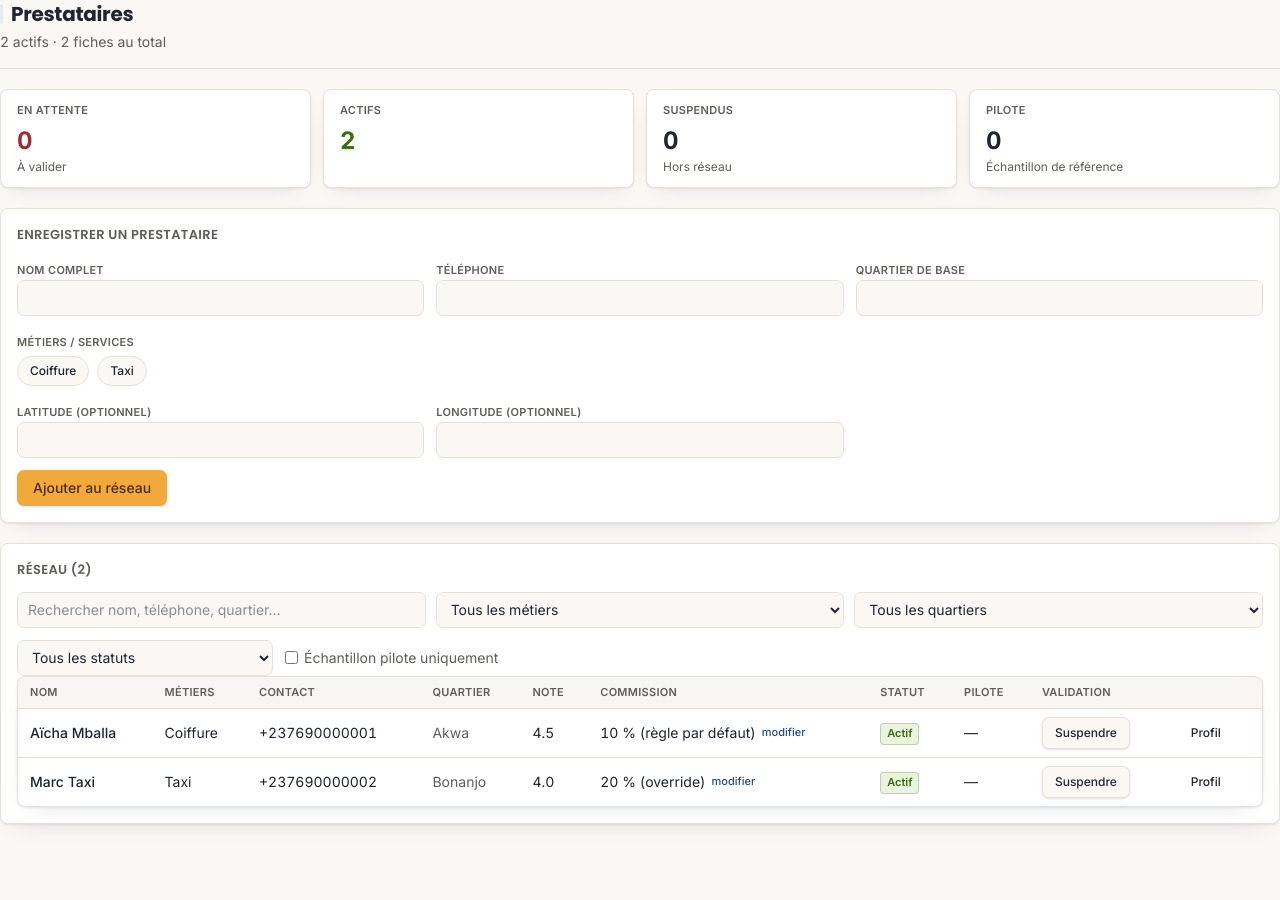
Test: Prestataires — annuaire, onboarding, validation de statut, filtres › onboarde un nouveau prestataire
This screenshot has width=1280, height=900.
Expected: the text "Aïcha Mballa" is shown, [18,709,153,758]
In the field labelled "Nom complet": (221, 298) [17,280,424,316], type "Nouveau Prestataire"
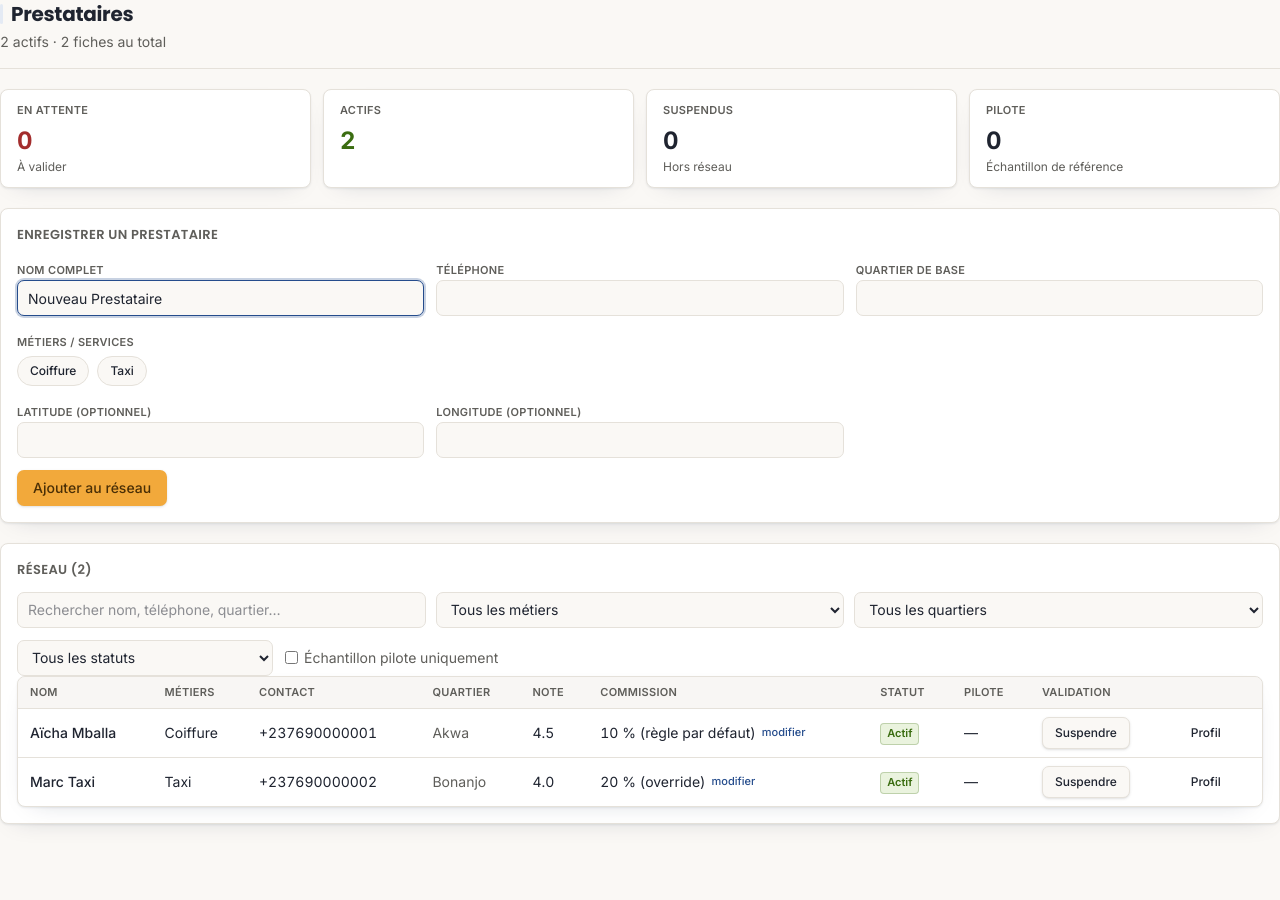
In the field labelled "Téléphone": (640, 298) [436,280,844,316], type "+237690000009"
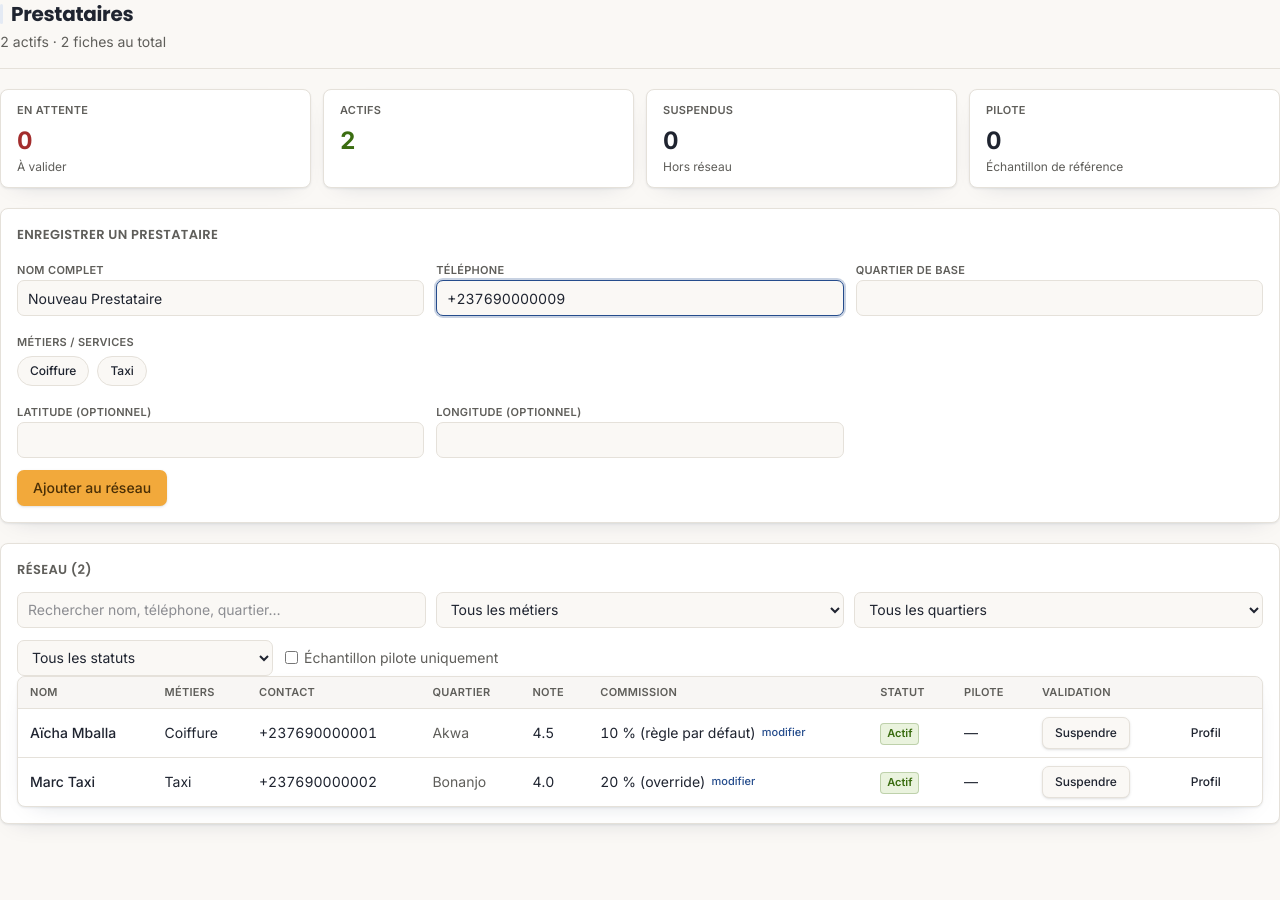
Click the button "Coiffure": (53, 371) [17,356,89,386]
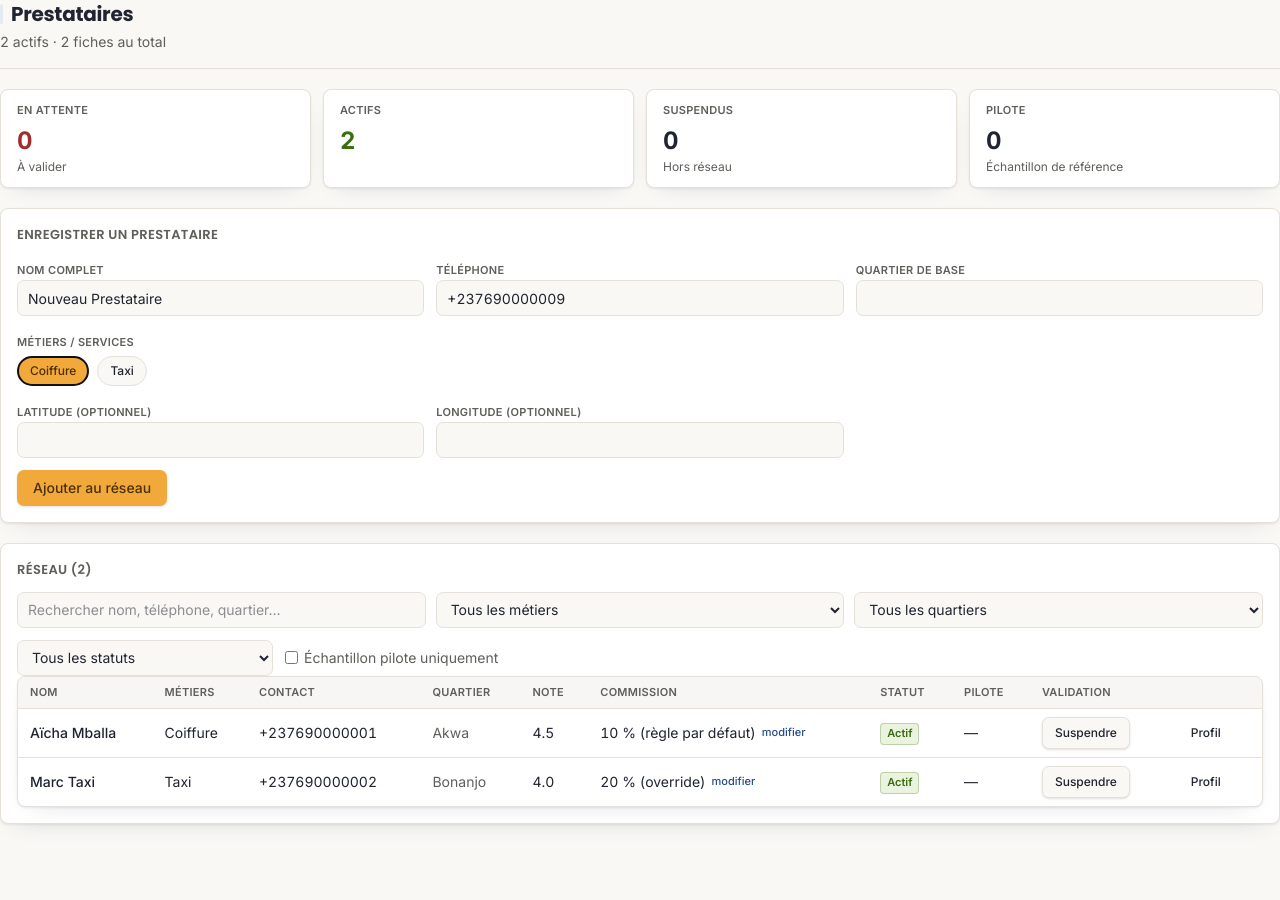
Click the button "Ajouter au réseau": (92, 488) [17,470,167,506]
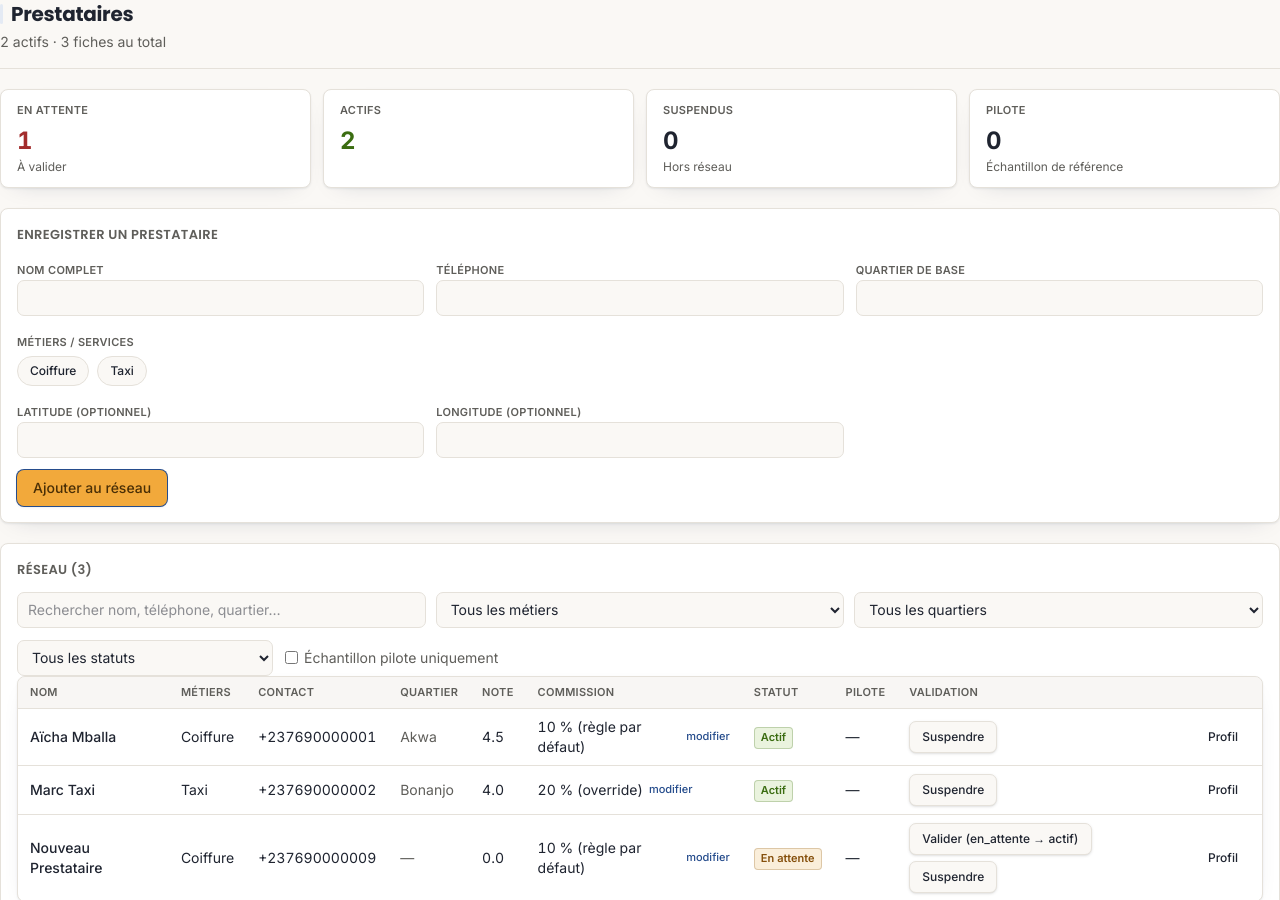
Result: the text "En attente" in the row of "Nouveau Prestataire" is shown at [761,851,815,865]
